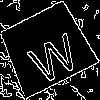W: (21, 23, 83, 86)
